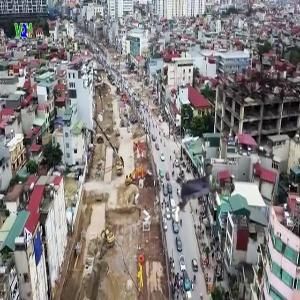drone: (164, 161, 228, 225)
